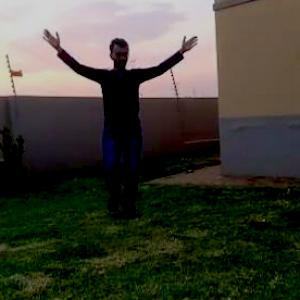takeoff: (4, 0, 197, 240)
